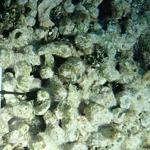dead: (1, 7, 149, 147)
